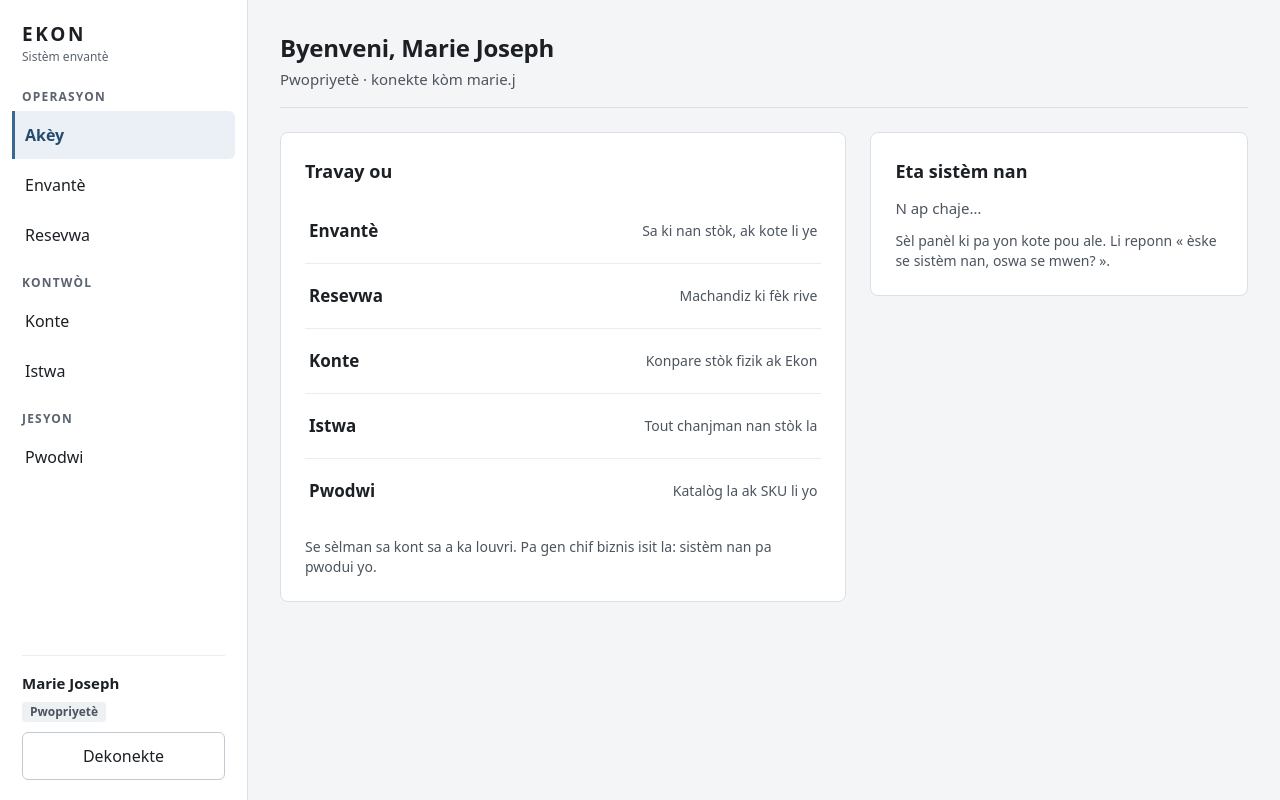
Test: loading the choices › shows a failure instead of an empty form
This screenshot has width=1280, height=800.
Check: the text "Marie Joseph" is shown, box [22,672,119,692]
What coordinates should you click on to do the following:
click the button "Resevwa"
I would click on:
 (124, 234)
Its box is [12,210,235,258].
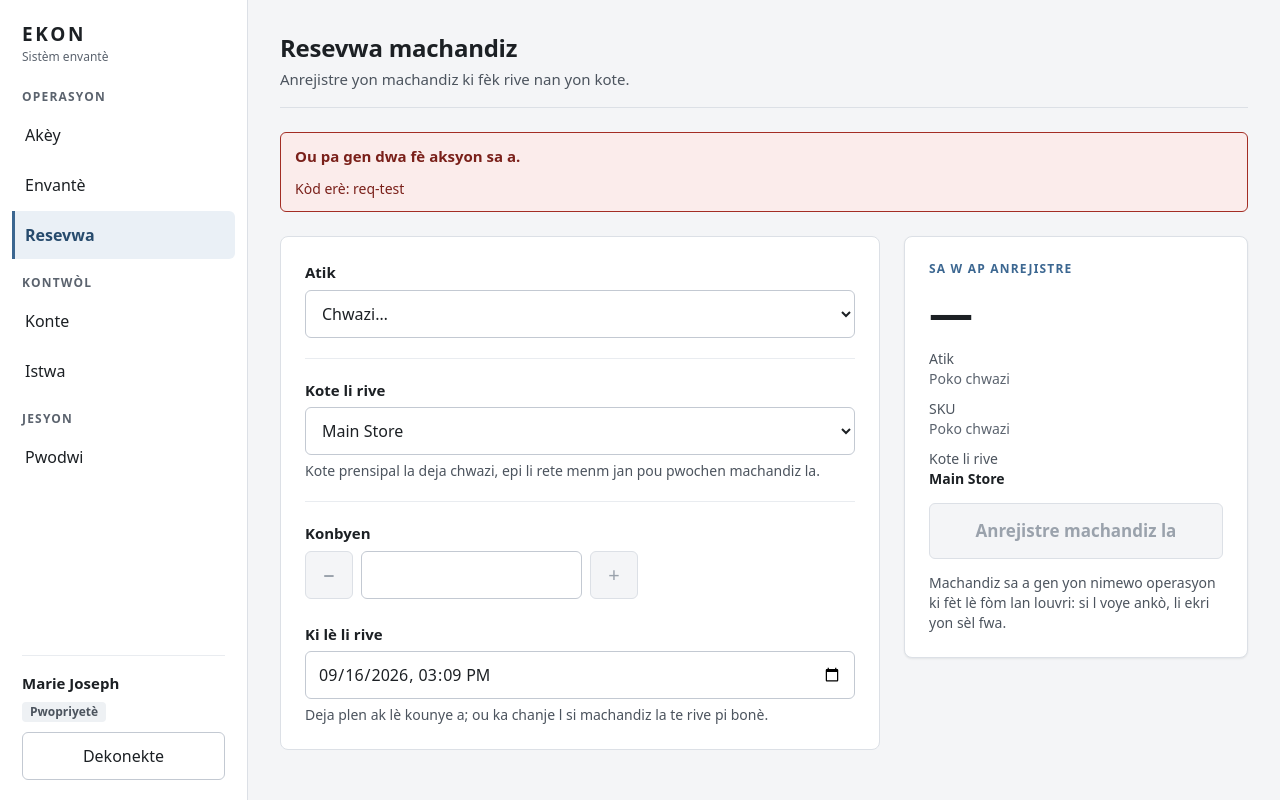
Check: the heading "Resevwa machandiz" is shown, box [280,31,517,64]
Check: the message shows "Ou pa gen dwa fè aksyon sa a.", box [295,146,520,166]
